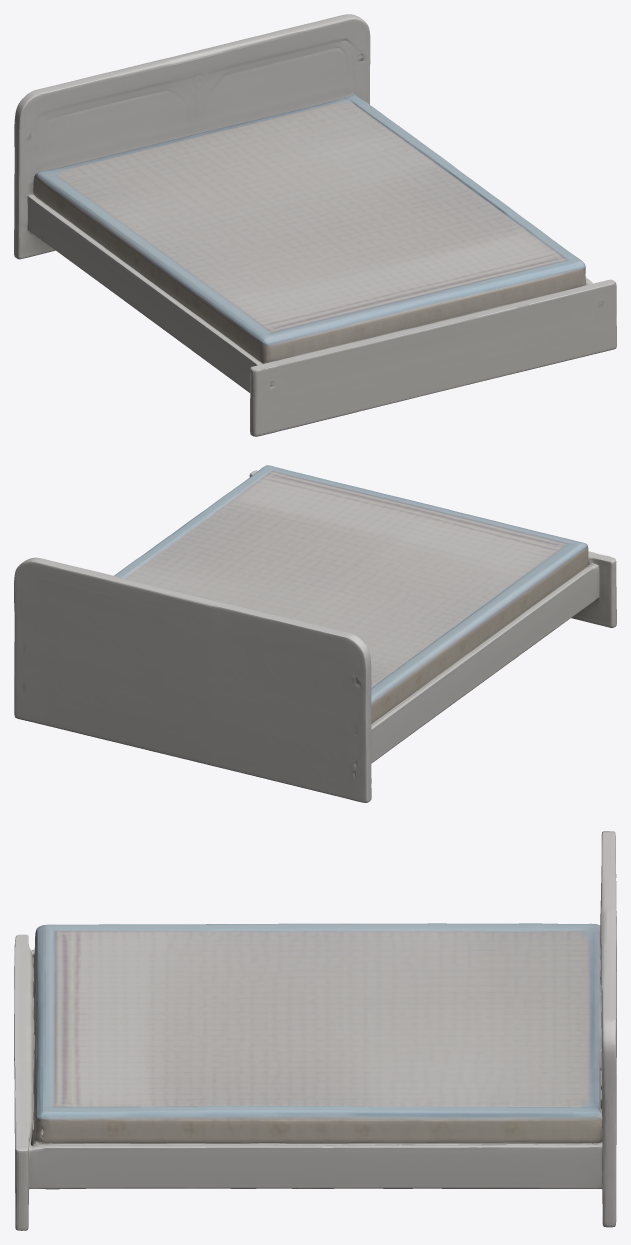
Rendered from room_scan_3e824cff-f521-461e-bc44-dc5e98302fdd_scene_bed_001_bed.glb.
3 renders of one model, top to bottom at view 1: azimuth 30°, elevation 25°; view 2: azimuth 150°, elevation 25°; view 3: azimuth 270°, elevation 25°, orthographic. The views are drawn at different scales.
Parts seen in each view (by area): view 1: world; view 2: world; view 3: world.
Boxes of the visible parts, x1,y1,x2,y2 form: world: [14, 14, 616, 436]; world: [14, 465, 616, 802]; world: [14, 831, 616, 1230].
Bounding box in the file's own units: 0.8499 × 0.3613 × 0.9987.
